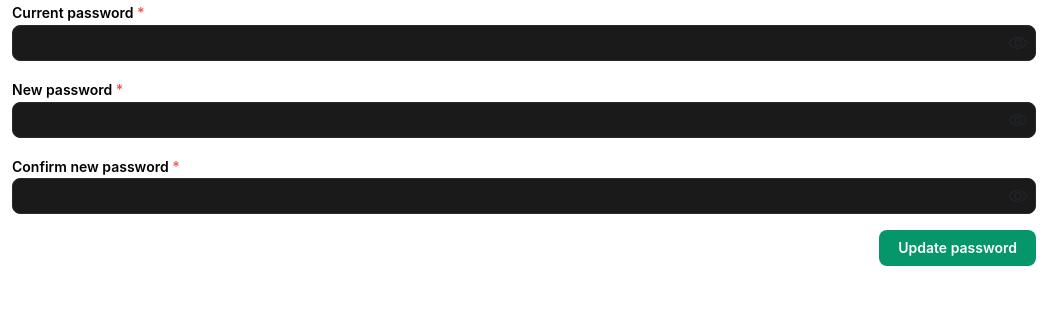
ChangePasswordForm › surfaces a friendly error and does not update the password when the current password is wrong
The image size is (1048, 320).
Step 1. Type "wrong-pw" into the password field labelled "Current password *" → coordinates (524, 43), box [13, 26, 1035, 60]
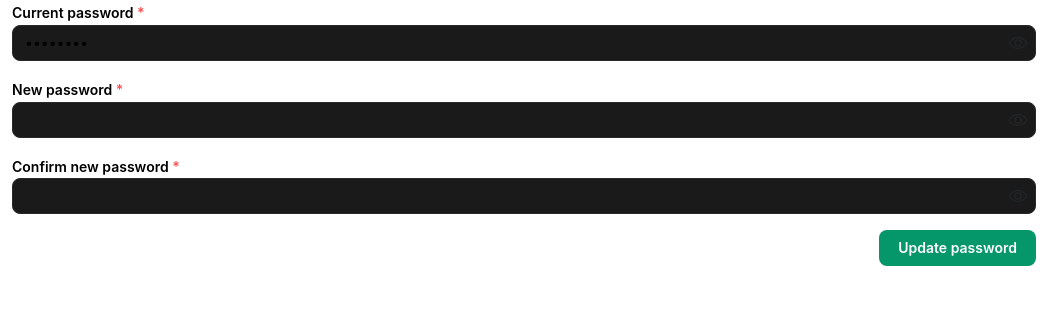
Step 2. Type "new-password-1" into the password field labelled "New password *" → coordinates (524, 120), box [13, 103, 1035, 137]
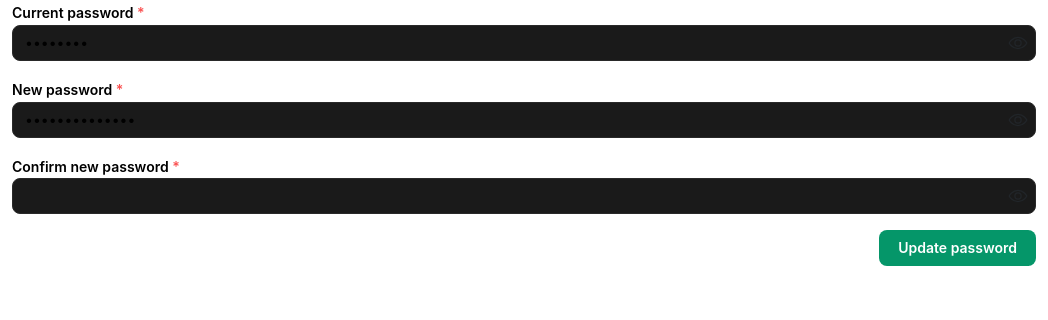
Step 3. Type "new-password-1" into the password field labelled "Confirm new password *" → coordinates (524, 196), box [13, 179, 1035, 213]
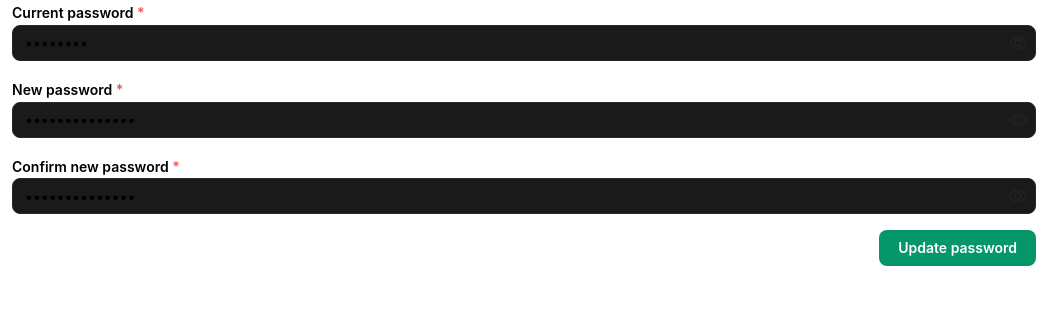
Step 4. Click the button "Update password" → coordinates (958, 248), box [879, 230, 1036, 266]
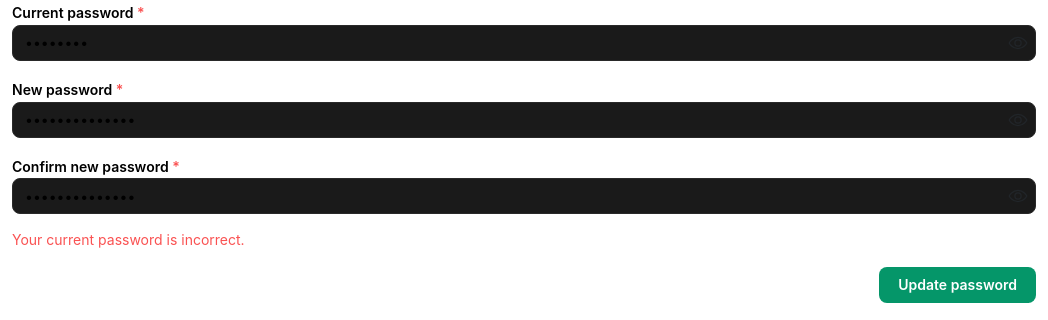
Result: the text "Your current password is incorrect." is shown at [12, 231, 245, 248]
